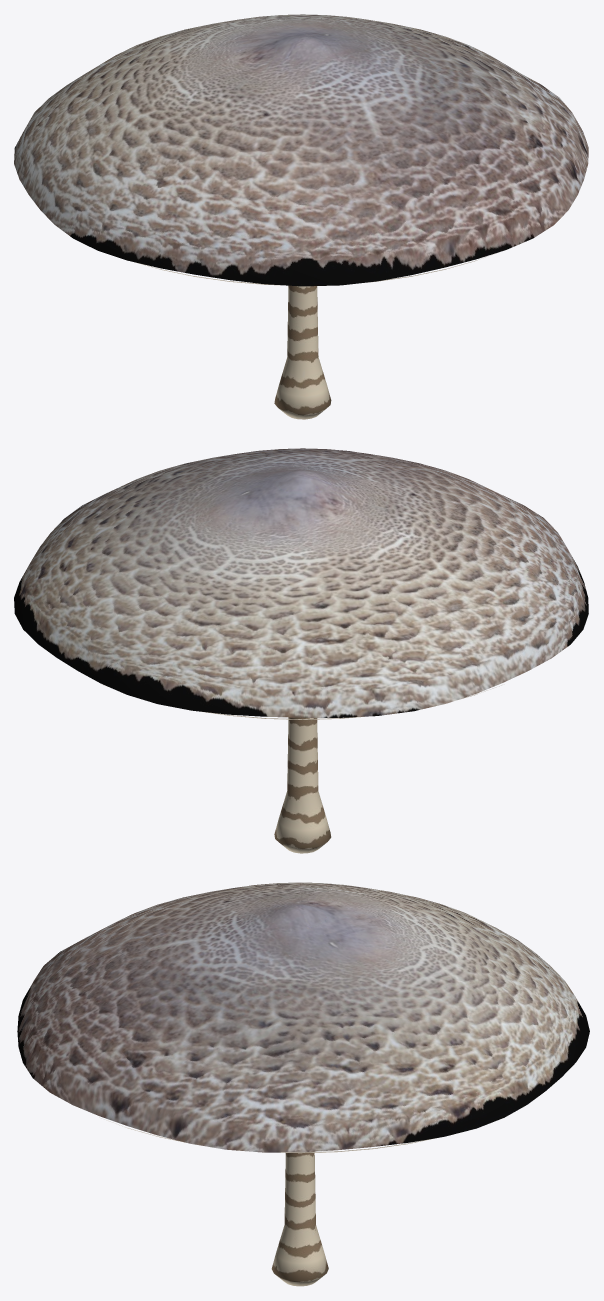
File: glider_mushroom.glb
3 renders of one model, top to bottom at view 1: azimuth 30°, elevation 25°; view 2: azimuth 150°, elevation 25°; view 3: azimuth 270°, elevation 25°, orthographic.
Parts seen in each view (by area): view 1: glider_mushroom; view 2: glider_mushroom; view 3: glider_mushroom.
Boxes of the visible parts, box(x1,y1,x2,y2) form: glider_mushroom: box(14, 14, 588, 419); glider_mushroom: box(14, 448, 588, 853); glider_mushroom: box(17, 882, 589, 1286).
Bounding box in the file's own units: 2 × 1.43 × 2.01.
Materials: 1 (1 with a texture image).
